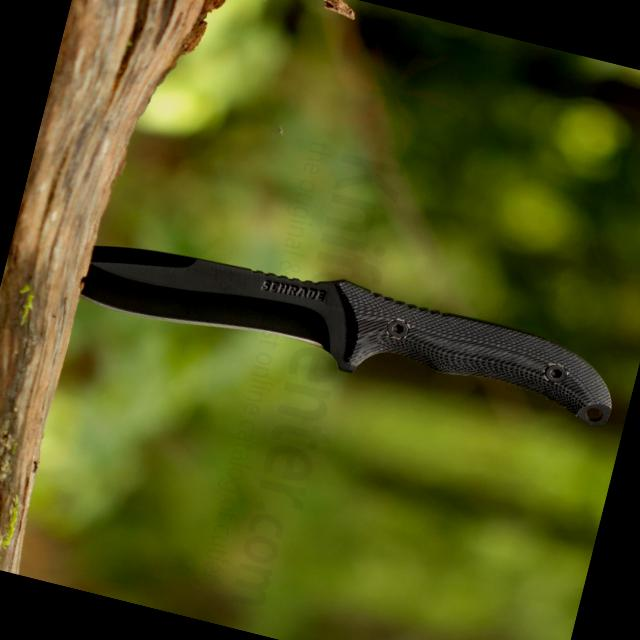knife: (69, 212, 636, 444)
